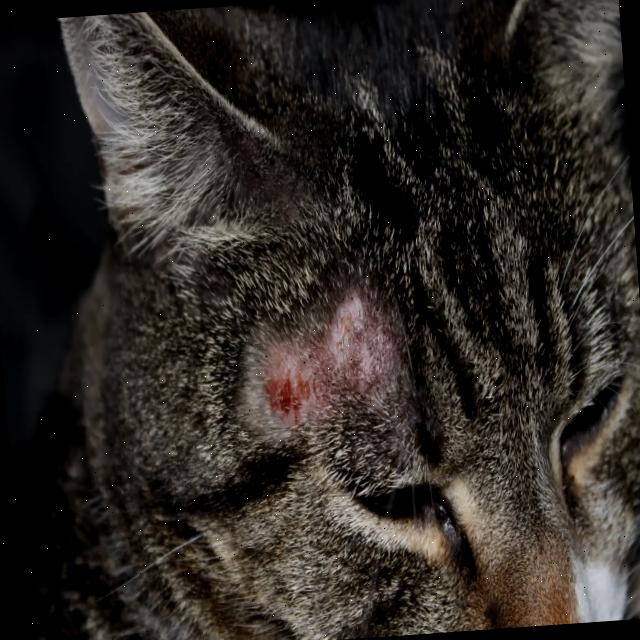cat-dermatitis: (246, 302, 388, 428)
